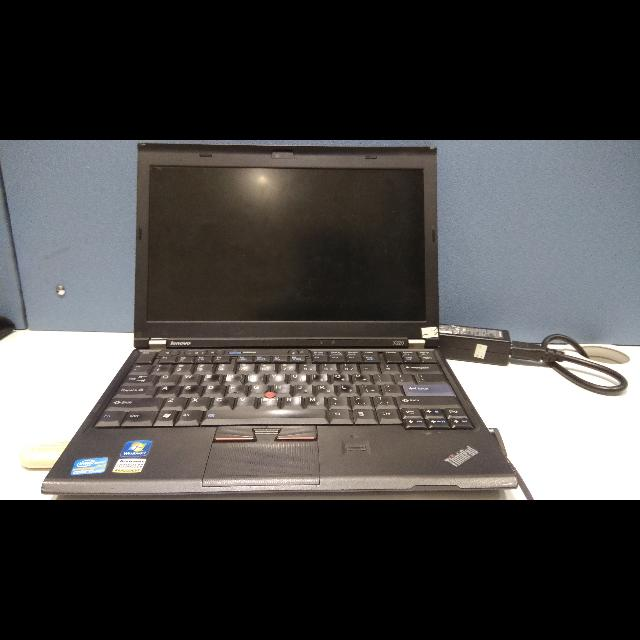Laptop: (40, 142, 524, 500)
